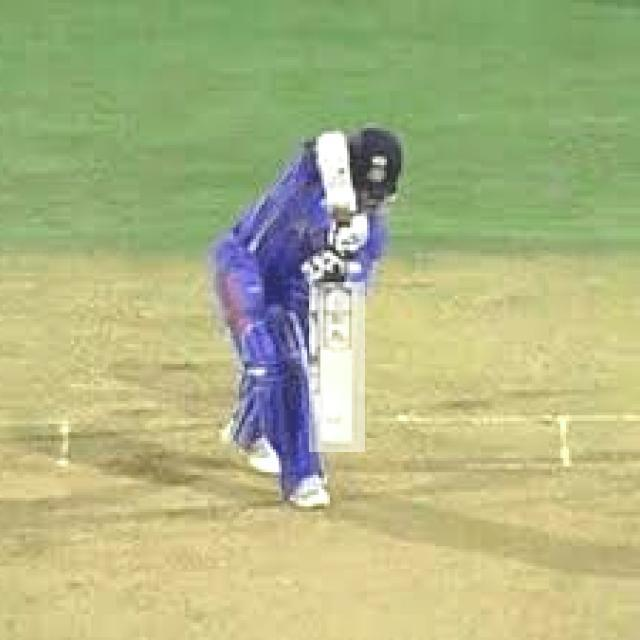bat: (307, 278, 359, 452)
toe: (310, 439, 362, 451)
